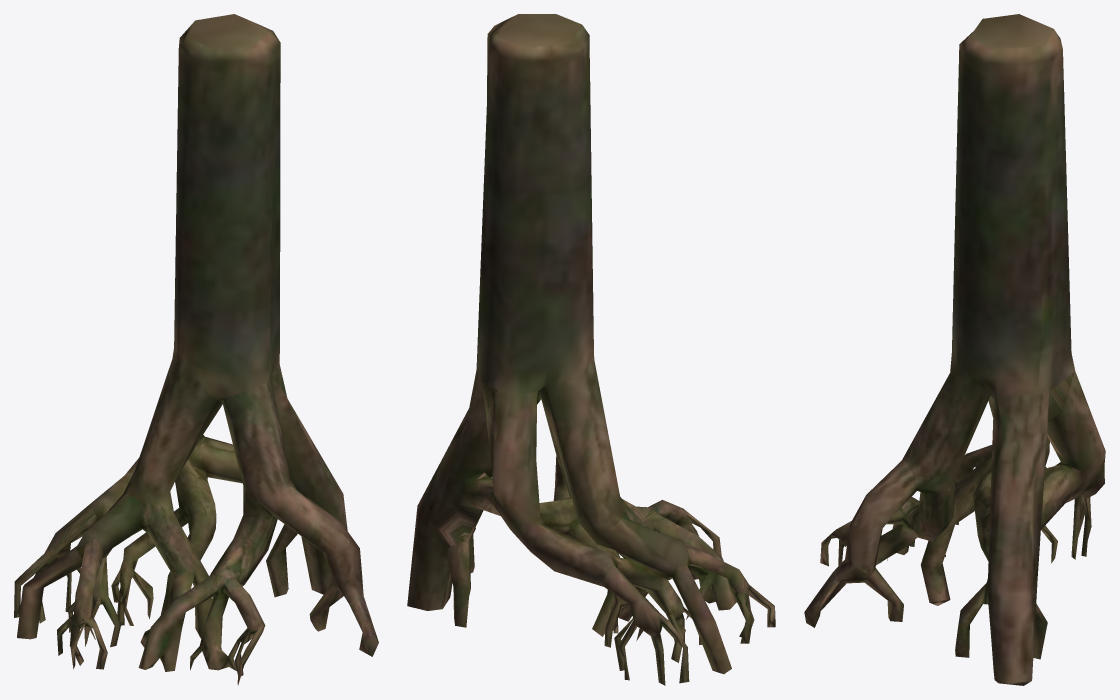
Rendered from duoc-re.glb.
3 views of the same model, side by side, from view 1: azimuth 30°, elevation 25°; view 2: azimuth 150°, elevation 25°; view 3: azimuth 270°, elevation 25° (orthographic). The views are drawn at different scales.
Parts seen in each view (by area): view 1: tree:polySurface1; view 2: tree:polySurface1; view 3: tree:polySurface1.
Boxes of the visible parts, left/top/right/bottom form: tree:polySurface1: left=14, top=14, right=378, bottom=685; tree:polySurface1: left=407, top=14, right=775, bottom=685; tree:polySurface1: left=804, top=14, right=1105, bottom=685.
Size of the model in its own units: 0.572 by 0.9996 by 0.4559.
1 material, 1 textured.
